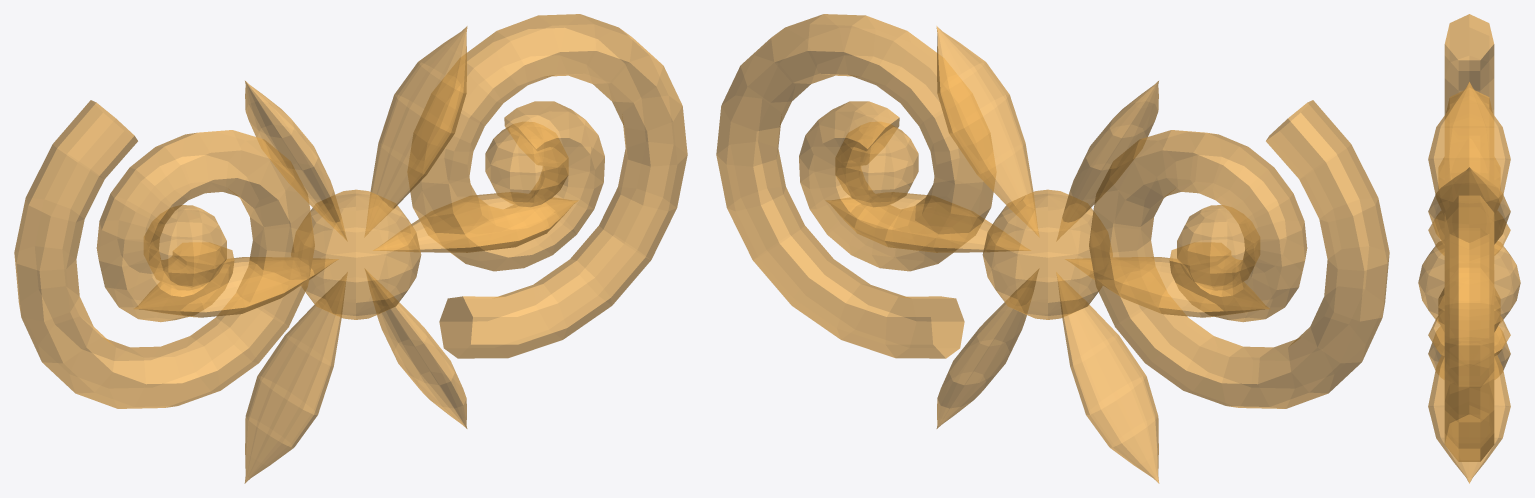
The model's file is fengcrown.glb.
The picture shows the model from 3 angles, left to right: view 1: azimuth 30°, elevation 25°; view 2: azimuth 150°, elevation 25°; view 3: azimuth 270°, elevation 25°; orthographic projection. The views are drawn at different scales.
Visible parts, largest first — view 1: FengCrown_QingYunian2; view 2: FengCrown_QingYunian2; view 3: FengCrown_QingYunian2.
Part boxes in pixels (<box>): FengCrown_QingYunian2: <box>14,14,687,483</box>; FengCrown_QingYunian2: <box>716,14,1389,483</box>; FengCrown_QingYunian2: <box>1418,14,1520,483</box>.
Bounding box in the file's own units: 0.0214 × 0.0129 × 0.00364.
